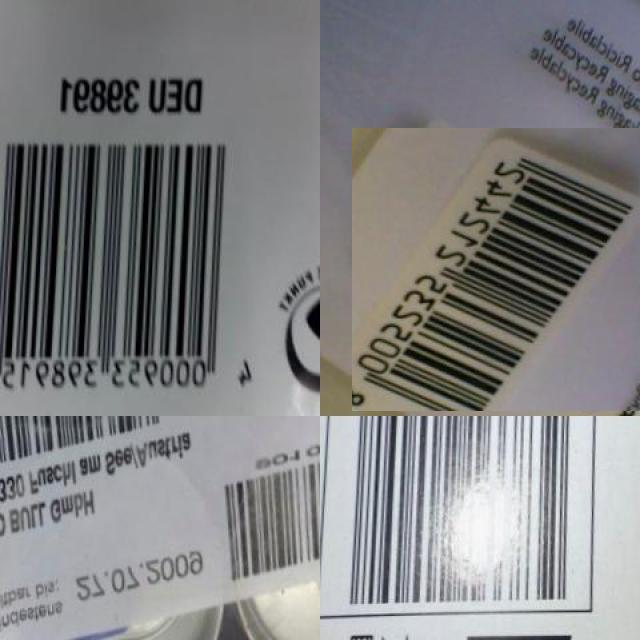Barcode: (355, 126, 640, 414), (0, 121, 275, 416), (323, 416, 589, 612), (0, 416, 174, 482)
